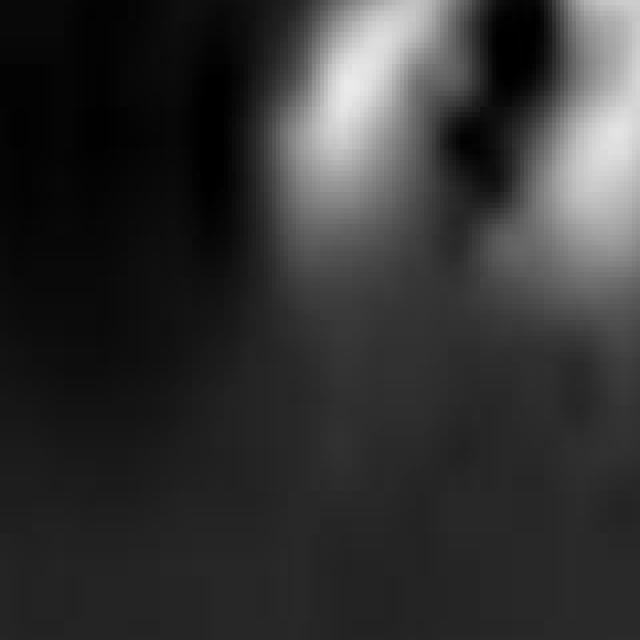person: (257, 1, 461, 353), (517, 1, 640, 396)
